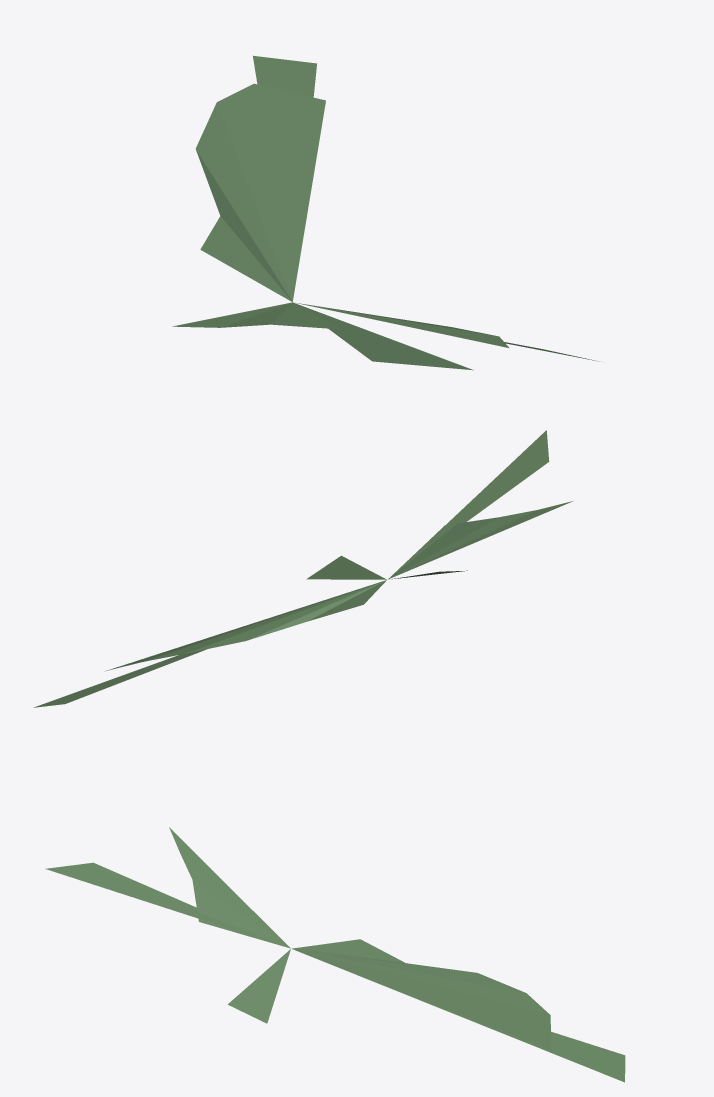
File: c_1666_17818_forest.glb
The picture shows the model from 3 angles, top to bottom: view 1: azimuth 30°, elevation 25°; view 2: azimuth 150°, elevation 25°; view 3: azimuth 270°, elevation 25°; orthographic projection. The views are drawn at different scales.
Parts seen in each view (by area): view 1: geometry_0; view 2: geometry_0; view 3: geometry_0.
Part boxes in pixels (bbox=[...]): geometry_0: bbox=[172, 55, 599, 370]; geometry_0: bbox=[33, 430, 573, 707]; geometry_0: bbox=[45, 827, 625, 1082].
Bounding box in the file's own units: 196 × 75.13 × 320.
